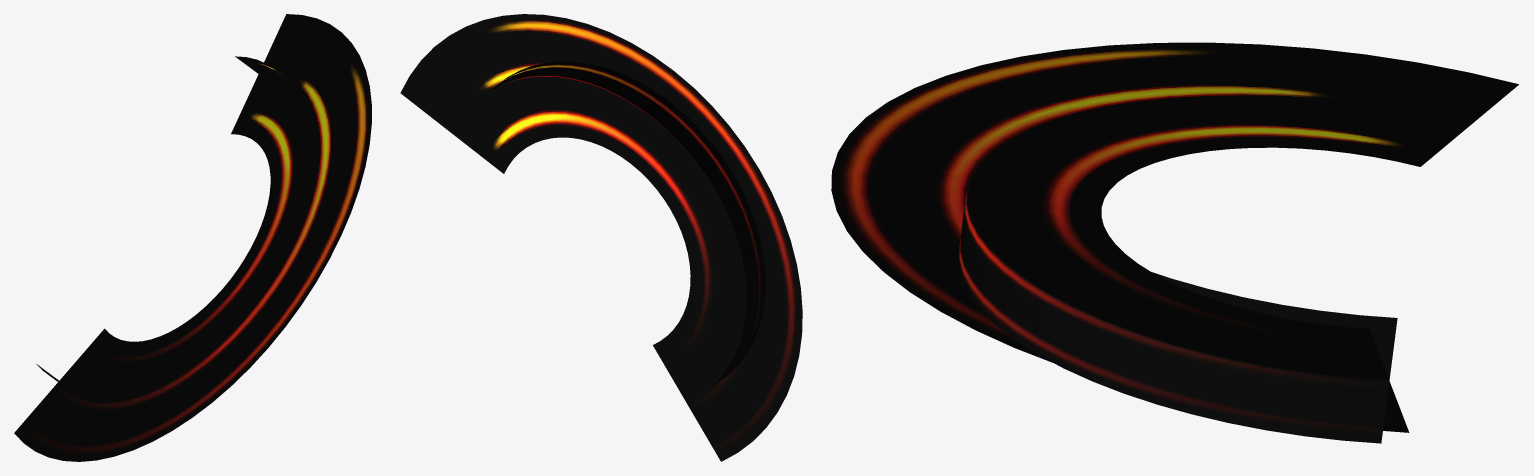
File: loft_10.FBX
3 renders of one model, left to right at view 1: azimuth 30°, elevation 25°; view 2: azimuth 150°, elevation 25°; view 3: azimuth 270°, elevation 25°, orthographic. The views are drawn at different scales.
Parts seen in each view (by area): view 1: loft_10; view 2: loft_10; view 3: loft_10.
Boxes of the visible parts, x1,y1,x2,y2 form: loft_10: [14, 14, 371, 461]; loft_10: [400, 14, 802, 461]; loft_10: [831, 42, 1518, 443].
Bounding box in the file's own units: 412 × 404 × 437.
1 material, 1 textured.
